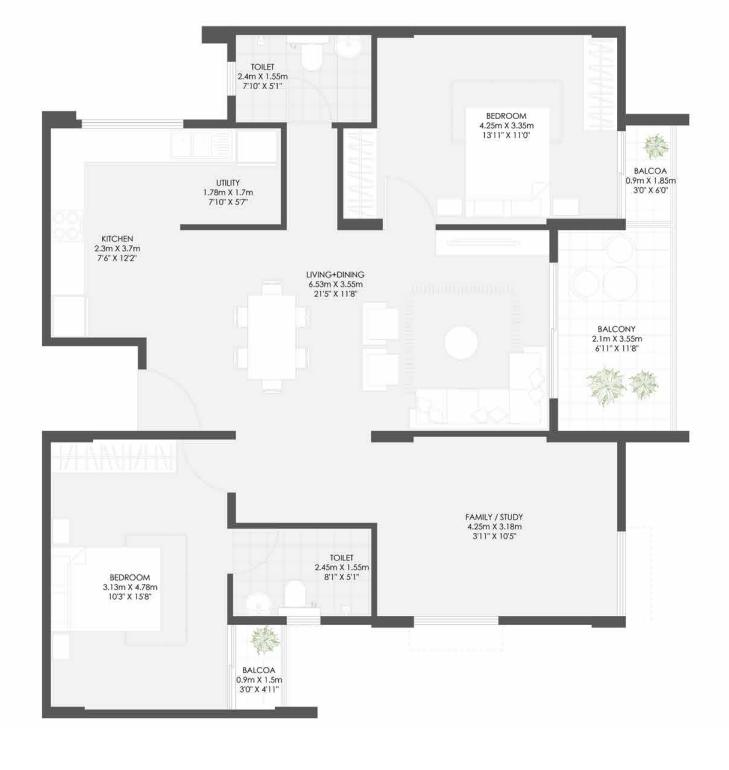Balcony: (554, 229, 677, 433)
Bedroom: (49, 442, 229, 714), (377, 32, 621, 224)
Dining Room: (184, 233, 347, 428)
Dining table: (229, 274, 321, 407)
Kitchen: (51, 127, 178, 340)
Living Room: (351, 229, 552, 434)
balcoa: (621, 118, 673, 226), (232, 623, 284, 709)
fridge: (52, 294, 89, 337)
study: (372, 442, 624, 622)
toilet: (232, 31, 373, 121), (232, 528, 373, 617)
utility: (179, 129, 282, 223)
washing-machine: (235, 129, 278, 165)
